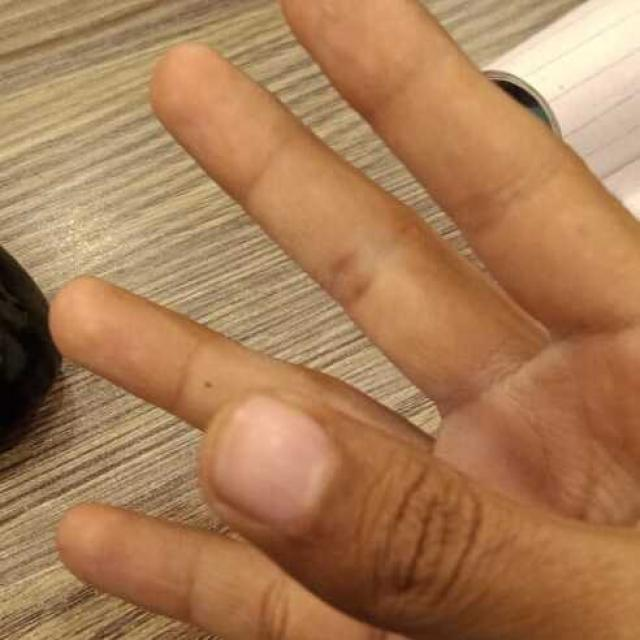Nail: (214, 395, 332, 522)
